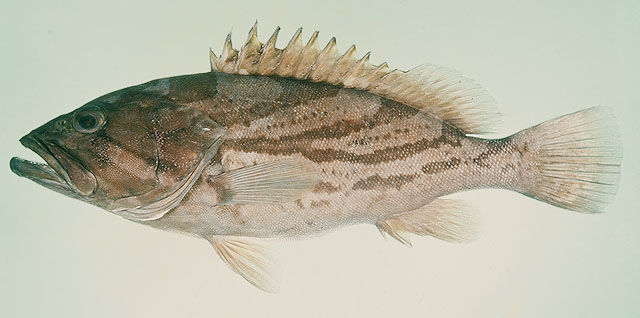fish: (9, 16, 623, 295)
